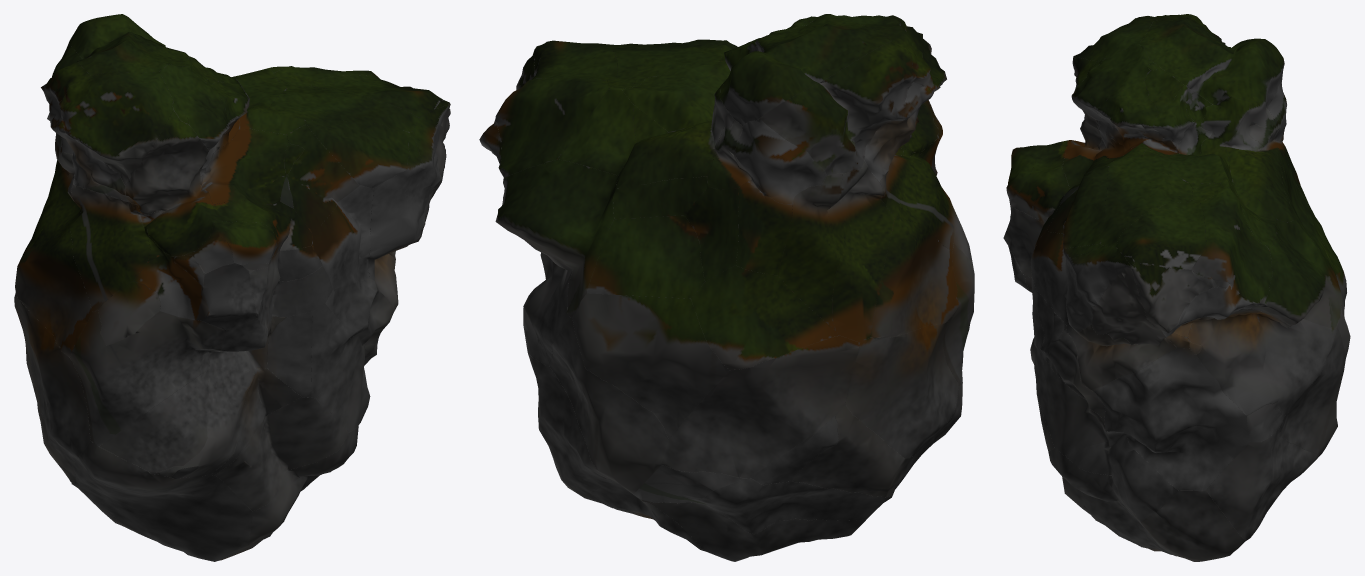
Rendered from generic_island_4.fbx.
The picture shows the model from 3 angles, left to right: view 1: azimuth 30°, elevation 25°; view 2: azimuth 150°, elevation 25°; view 3: azimuth 270°, elevation 25°; orthographic projection. The views are drawn at different scales.
Visible parts, largest first — view 1: rock_cell.095, rock_cell.121, rock_cell.138, rock_cell.077, rock_cell.007, rock_cell.186, rock_cell.085, rock_cell.029, rock_cell.020, rock_cell.129, rock_cell.182, rock_cell.065 (+35 smaller); view 2: rock_cell.012, rock_cell.083, rock_cell.196, rock_cell.129, rock_cell.035, rock_cell.055, rock_cell.065, rock_cell.167, rock_cell.118, rock_cell.047, rock_cell.029, rock_cell.105 (+27 smaller); view 3: rock_cell.018, rock_cell.190, rock_cell.065, rock_cell.037, rock_cell.035, rock_cell.105, rock_cell.079, rock_cell.001, rock_cell.169, rock_cell.093, rock_cell.064, rock_cell.167 (+33 smaller).
Part boxes in pixels (box(x1,y1,x2,y2)): rock_cell.095: box(70, 310, 226, 446); rock_cell.121: box(74, 441, 252, 561); rock_cell.138: box(59, 71, 173, 185); rock_cell.077: box(125, 110, 216, 256); rock_cell.007: box(215, 397, 348, 511); rock_cell.186: box(70, 185, 150, 312); rock_cell.085: box(99, 369, 209, 471); rock_cell.029: box(15, 226, 92, 357); rock_cell.020: box(133, 252, 256, 330); rock_cell.129: box(14, 293, 90, 461); rock_cell.182: box(200, 129, 288, 204); rock_cell.065: box(69, 14, 189, 75); rock_cell.012: box(661, 335, 859, 477); rock_cell.083: box(572, 293, 729, 438); rock_cell.196: box(758, 41, 916, 175); rock_cell.129: box(845, 321, 958, 459); rock_cell.035: box(495, 159, 618, 317); rock_cell.055: box(691, 265, 838, 369); rock_cell.065: box(720, 14, 891, 126); rock_cell.167: box(549, 318, 668, 493); rock_cell.118: box(827, 161, 894, 342); rock_cell.047: box(587, 215, 704, 298); rock_cell.029: box(870, 216, 958, 337); rock_cell.105: box(495, 78, 610, 177); rock_cell.018: box(1093, 348, 1249, 490); rock_cell.190: box(1188, 309, 1336, 419); rock_cell.065: box(1138, 15, 1284, 107); rock_cell.037: box(1206, 426, 1317, 540); rock_cell.035: box(1241, 220, 1341, 329); rock_cell.105: box(1191, 187, 1272, 306); rock_cell.079: box(1141, 490, 1246, 561); rock_cell.001: box(1116, 200, 1205, 269); rock_cell.169: box(1100, 155, 1192, 247); rock_cell.093: box(1066, 429, 1178, 521); rock_cell.064: box(1225, 100, 1293, 221); rock_cell.167: box(1280, 328, 1346, 457).
Size of the model in its own units: 891 by 1111 by 728.
Materials: 1 (1 with a texture image).
